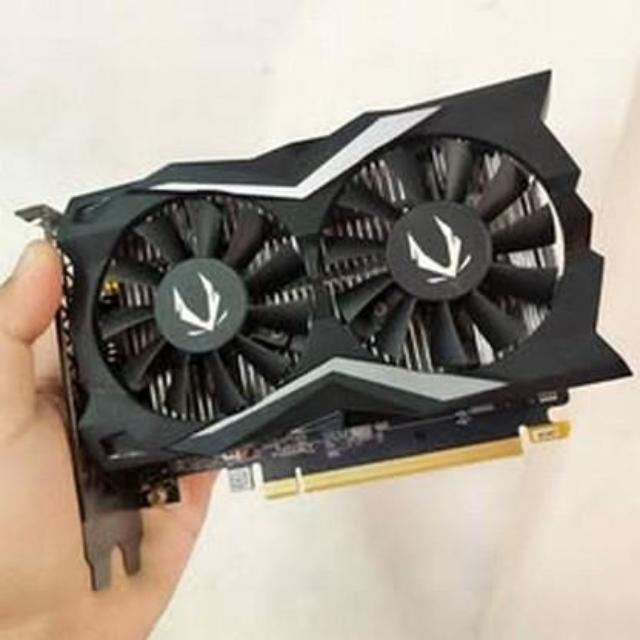GPU: (49, 80, 623, 506)
